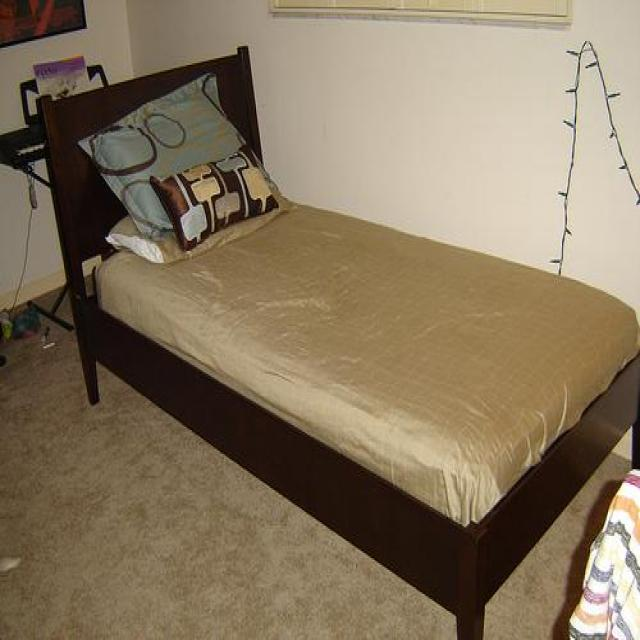bed: (34, 43, 638, 638)
